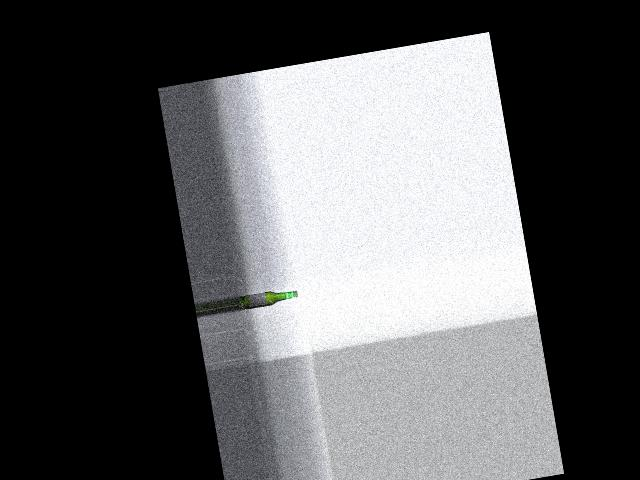beer: (242, 287, 298, 310)
